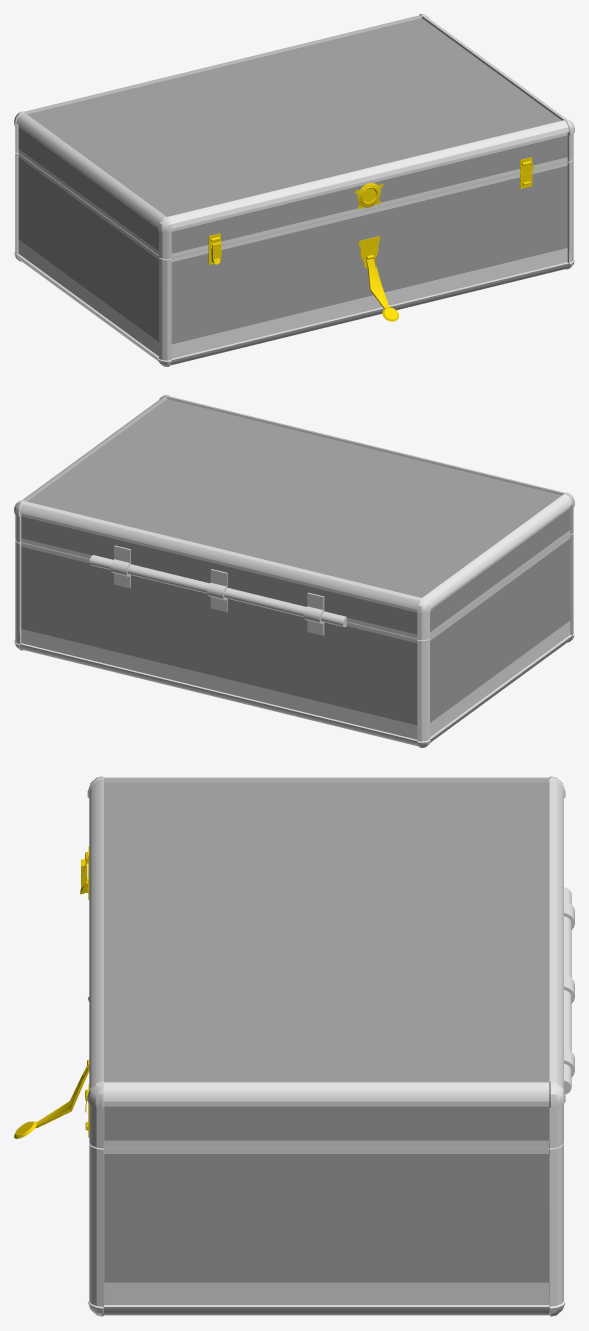
File: Trunk_Final.fbx
3 renders of one model, top to bottom at view 1: azimuth 30°, elevation 25°; view 2: azimuth 150°, elevation 25°; view 3: azimuth 270°, elevation 25°, orthographic. The views are drawn at different scales.
Parts seen in each view (by area): view 1: trunktop, trunkbottom, Lock, lock; view 2: trunktop, trunkbottom, Hinge; view 3: trunktop, trunkbottom, Hinge, Lock.
Part boxes in pixels (x1,y1,x2,y2): trunktop: (14, 14, 574, 259); trunkbottom: (14, 152, 574, 366); Lock: (366, 257, 398, 321); lock: (355, 183, 383, 209); trunktop: (14, 395, 574, 640); trunkbottom: (14, 533, 574, 747); Hinge: (89, 555, 346, 627); trunktop: (87, 776, 565, 1148); trunkbottom: (88, 996, 565, 1316); Hinge: (564, 887, 574, 1094); Lock: (14, 1066, 89, 1138).
Bounding box in the file's own units: 1.2 × 0.4122 × 0.8939.
